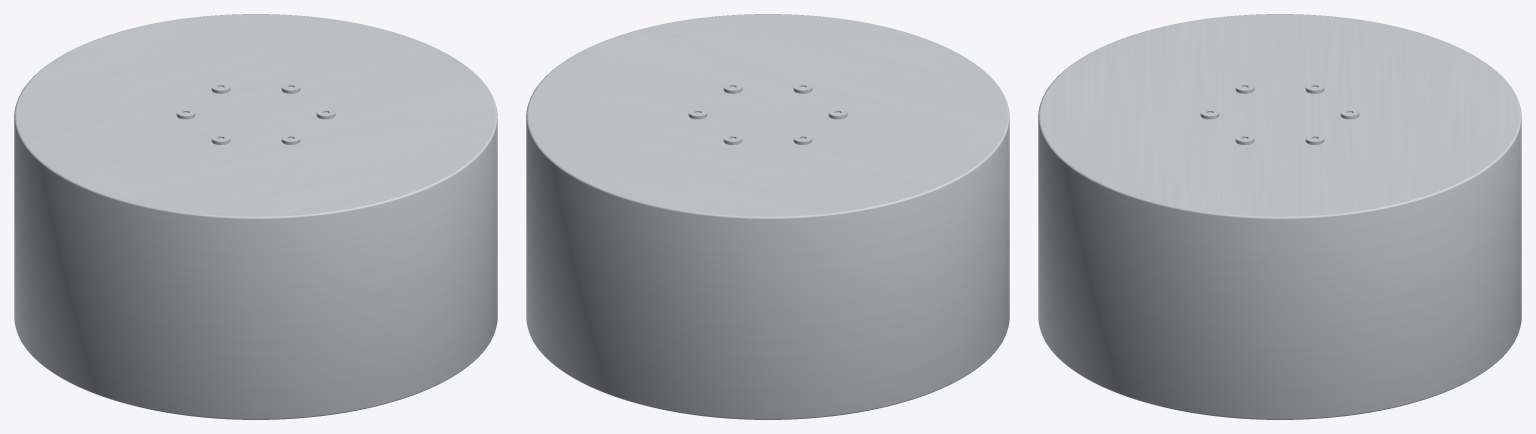
File: right_wheel_aluminium.obj
The picture shows the model from 3 angles, left to right: view 1: azimuth 30°, elevation 25°; view 2: azimuth 150°, elevation 25°; view 3: azimuth 270°, elevation 25°; orthographic projection.
Visible parts, largest first — view 1: right_wheel__hub; view 2: right_wheel__hub; view 3: right_wheel__hub.
Boxes of the visible parts, x1,y1,x2,y2 form: right_wheel__hub: (14, 14, 497, 419); right_wheel__hub: (526, 14, 1009, 419); right_wheel__hub: (1038, 14, 1521, 419).
Size of the model in its own units: 0.1036 by 0.0495 by 0.1036.
1 material, 1 textured.
